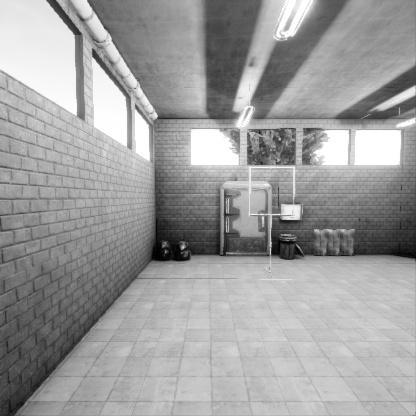gate: (248, 202, 298, 251)
